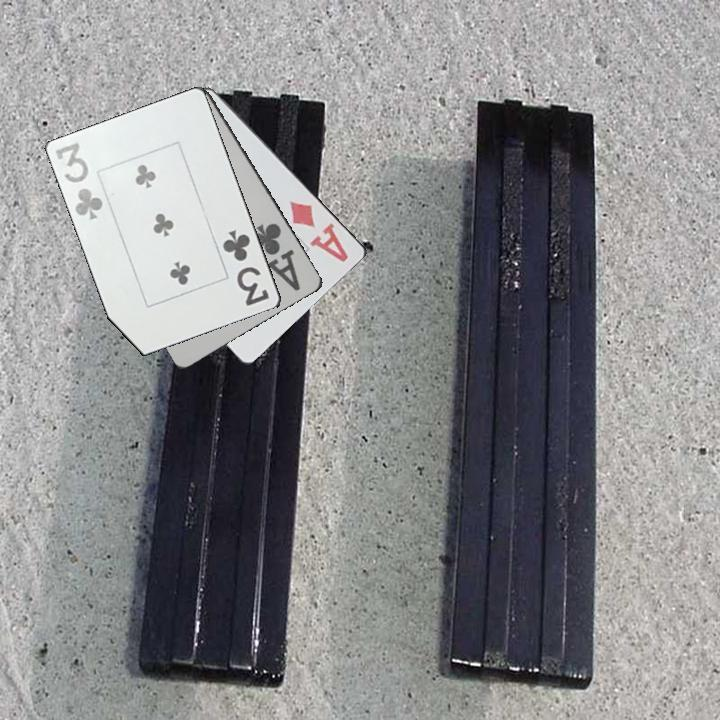3c: (52, 139, 106, 223), (219, 226, 273, 309)
Ac: (247, 219, 304, 294)
Ad: (286, 197, 352, 265)
